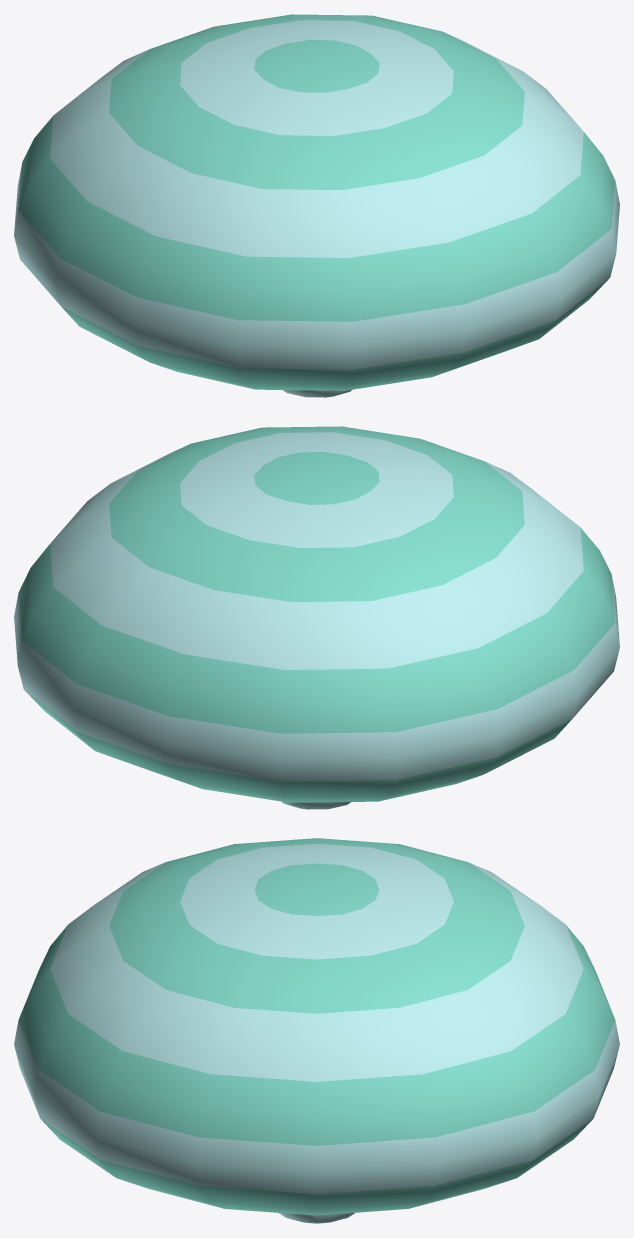
File: Egger_01.fbx
The picture shows the model from 3 angles, top to bottom: view 1: azimuth 30°, elevation 25°; view 2: azimuth 150°, elevation 25°; view 3: azimuth 270°, elevation 25°; orthographic projection.
Parts seen in each view (by area): view 1: Egger_01_LOD0; view 2: Egger_01_LOD0; view 3: Egger_01_LOD0.
Part boxes in pixels (x1=…): Egger_01_LOD0: x1=14, y1=14, x2=619, y2=397; Egger_01_LOD0: x1=14, y1=426, x2=619, y2=809; Egger_01_LOD0: x1=14, y1=838, x2=619, y2=1223.
Size of what is drawn, in the model's own units: 468 by 277 by 468.
